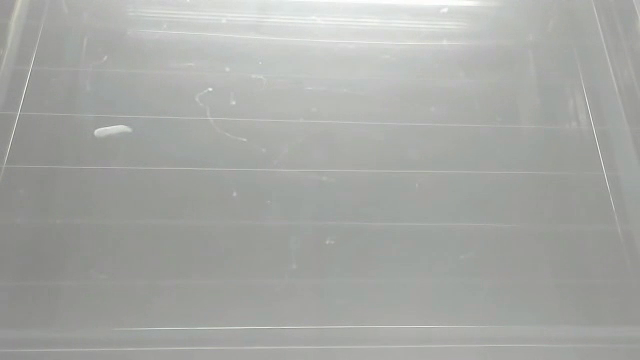alpha: (88, 119, 140, 144)
